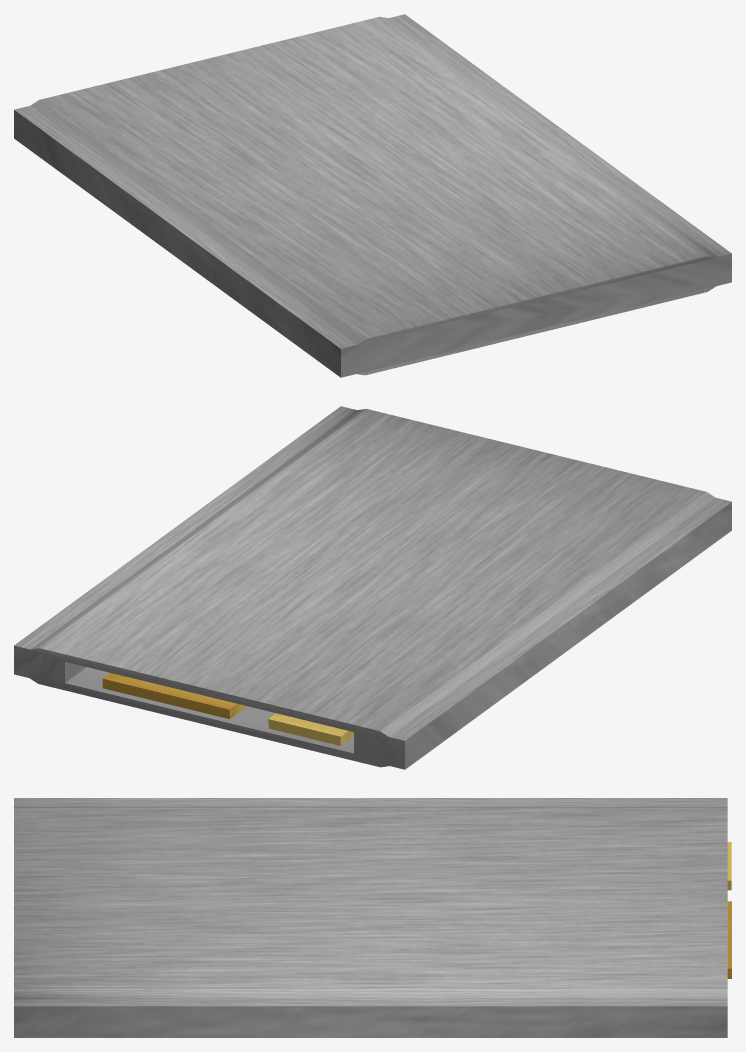
File: ssd2.obj
3 views of the same model, one above another, from view 1: azimuth 30°, elevation 25°; view 2: azimuth 150°, elevation 25°; view 3: azimuth 270°, elevation 25° (orthographic). The views are drawn at different scales.
Visible parts, largest first — view 1: Cube; view 2: Cube; view 3: Cube.
Part boxes in pixels (box(x1,y1,x2,y2)): Cube: box(14, 14, 731, 377); Cube: box(14, 406, 731, 769); Cube: box(14, 798, 731, 1037).
Bounding box in the file's own units: 4.25 × 0.375 × 6.19.
